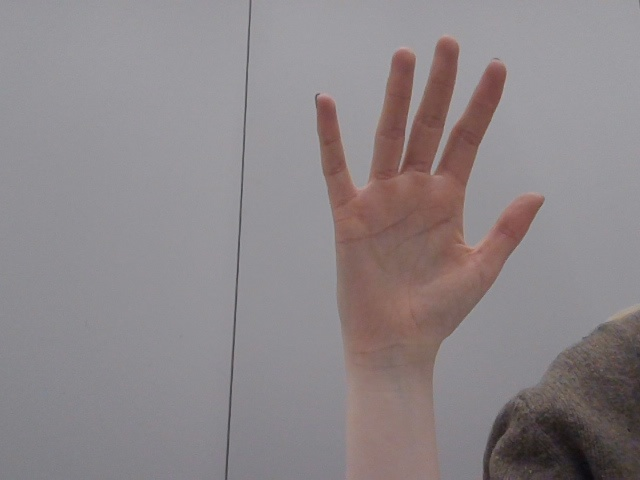nada: (293, 27, 552, 369)
